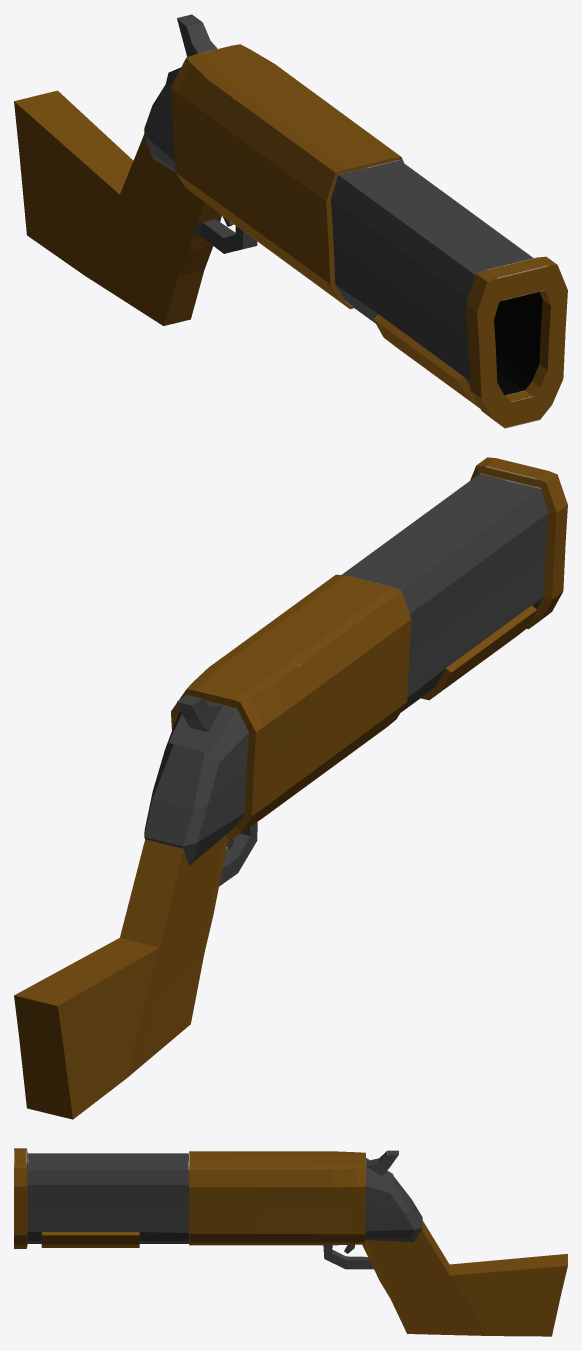
The model's file is Gernade_Launcher.fbx.
3 renders of one model, top to bottom at view 1: azimuth 30°, elevation 25°; view 2: azimuth 150°, elevation 25°; view 3: azimuth 270°, elevation 25°, orthographic. The views are drawn at different scales.
Visible parts, largest first — view 1: Gernade Launcher; view 2: Gernade Launcher; view 3: Gernade Launcher.
Boxes of the visible parts, <box> form: Gernade Launcher: <box>14,14,567,428</box>; Gernade Launcher: <box>14,457,567,1119</box>; Gernade Launcher: <box>14,1148,567,1336</box>.
Size of the model in its own units: 86.76 by 284 by 805.
